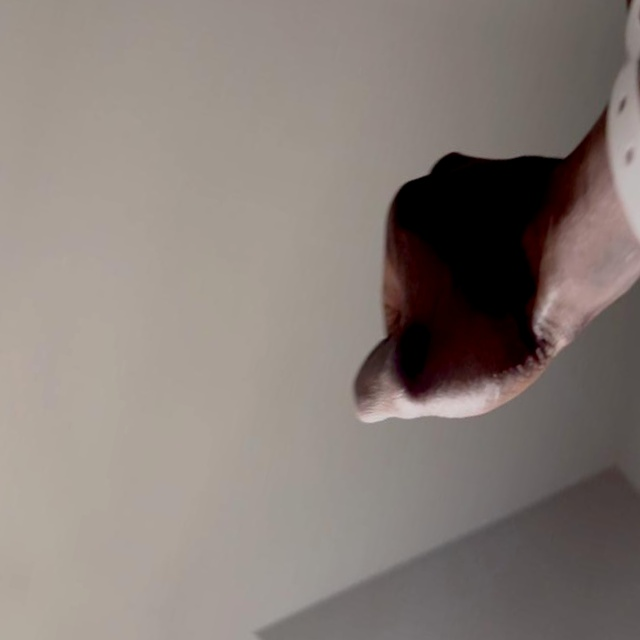Rock: (343, 126, 616, 461)
